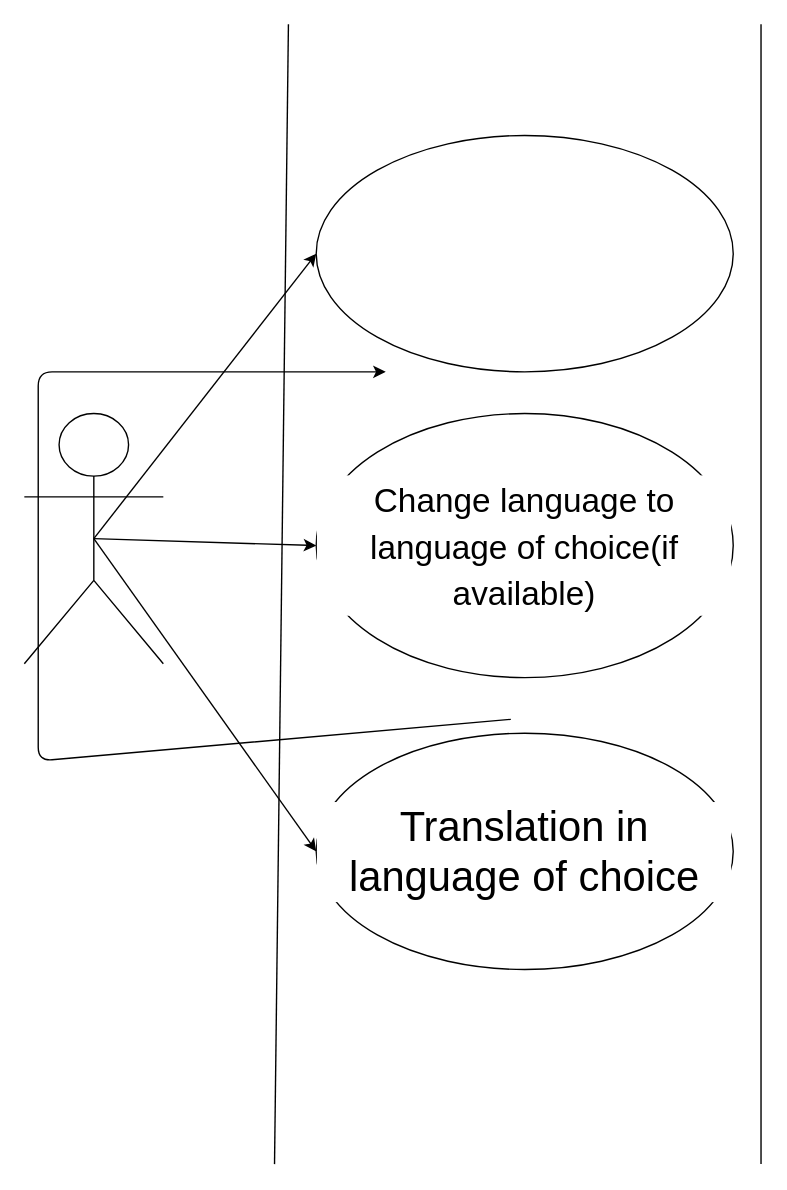
The diagram is 787 pixels wide and 1190 high, and some of its shapes have lost their labels. The box of each missing label's shape, as (x1, y1, x2, y2) in pixels:
Chat with others: (315, 134, 733, 372)
User: (23, 412, 163, 664)
